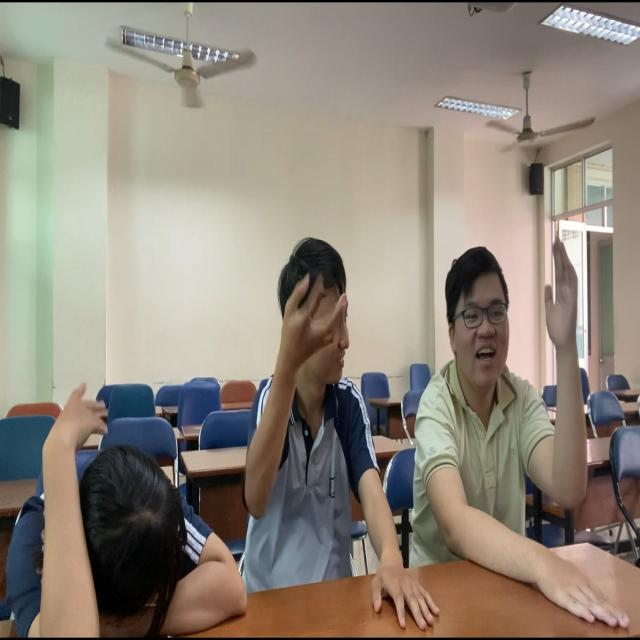raise_hand: (412, 248, 593, 578)
sleep: (1, 413, 200, 640)
